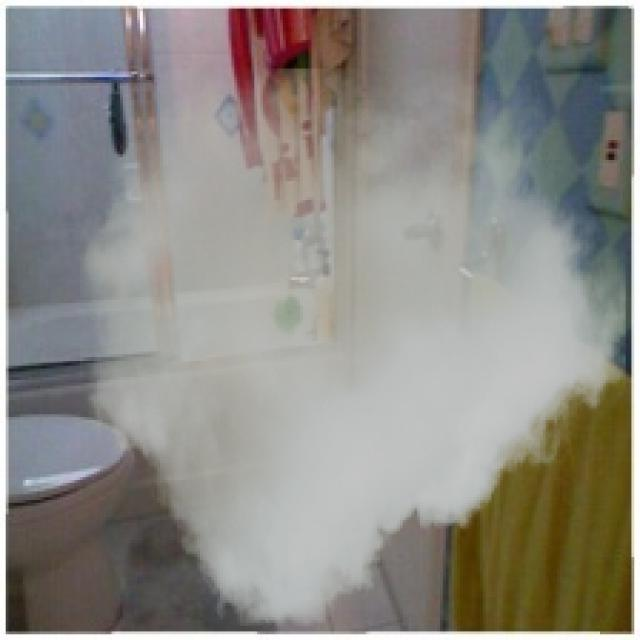smoke: (80, 69, 626, 626)
